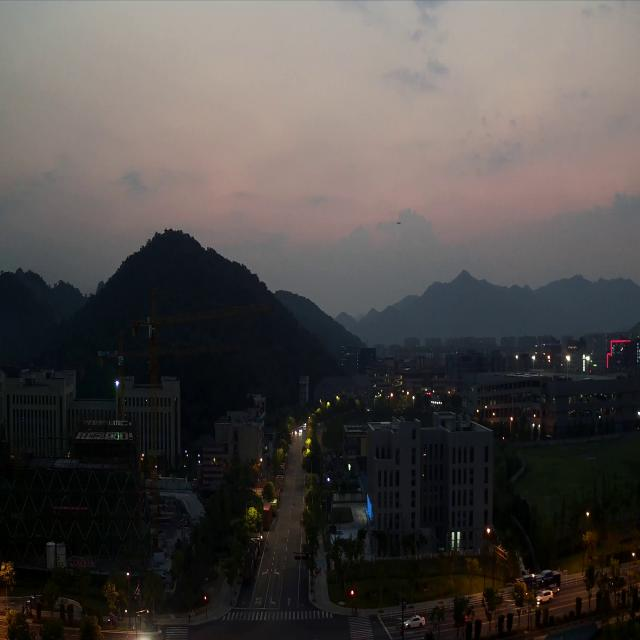drone: (396, 222, 401, 224)
